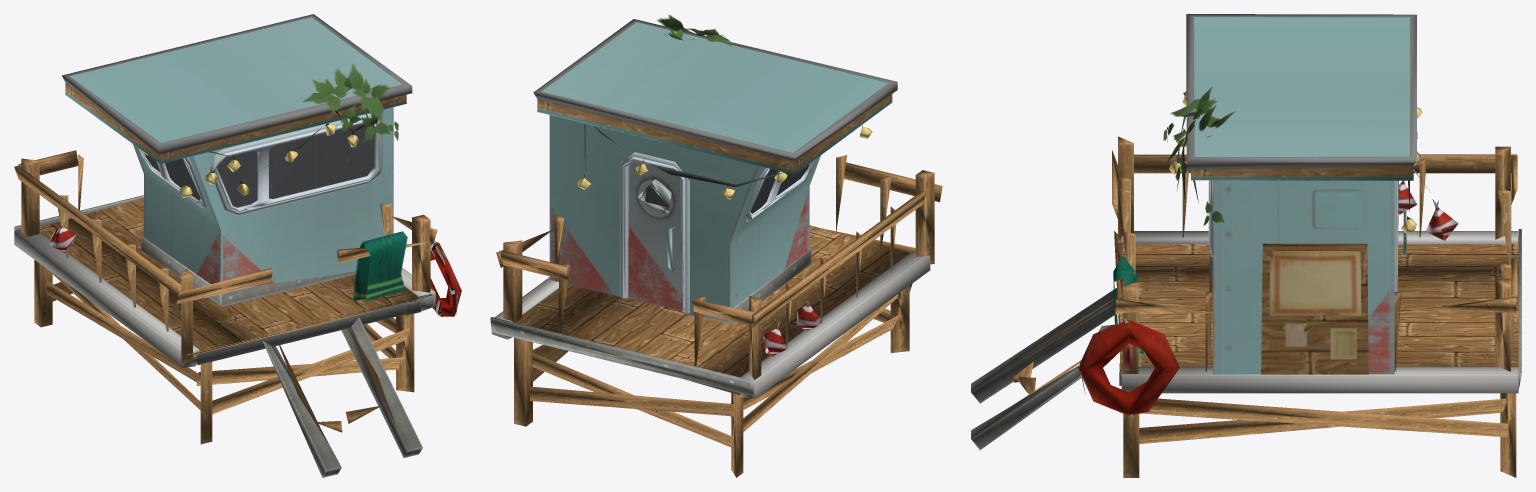
Rendered from lifeguard-tower.glow-v1.lod1.glb.
3 renders of one model, left to right at view 1: azimuth 30°, elevation 25°; view 2: azimuth 150°, elevation 25°; view 3: azimuth 270°, elevation 25°, orthographic. The views are drawn at different scales.
Parts seen in each view (by area): view 1: Object_2, Object_3; view 2: Object_2, Object_3; view 3: Object_3, Object_2.
Boxes of the visible parts, x1=… form: Object_2: x1=62, y1=14, x2=412, y2=301; Object_3: x1=14, y1=150, x2=461, y2=477; Object_2: x1=533, y1=15, x2=897, y2=313; Object_3: x1=490, y1=155, x2=942, y2=477; Object_3: x1=971, y1=136, x2=1521, y2=477; Object_2: x1=1113, y1=14, x2=1422, y2=374.
Size of the model in its own units: 4.33 by 4.6 by 6.28.
Materials: 2 (2 with a texture image).
